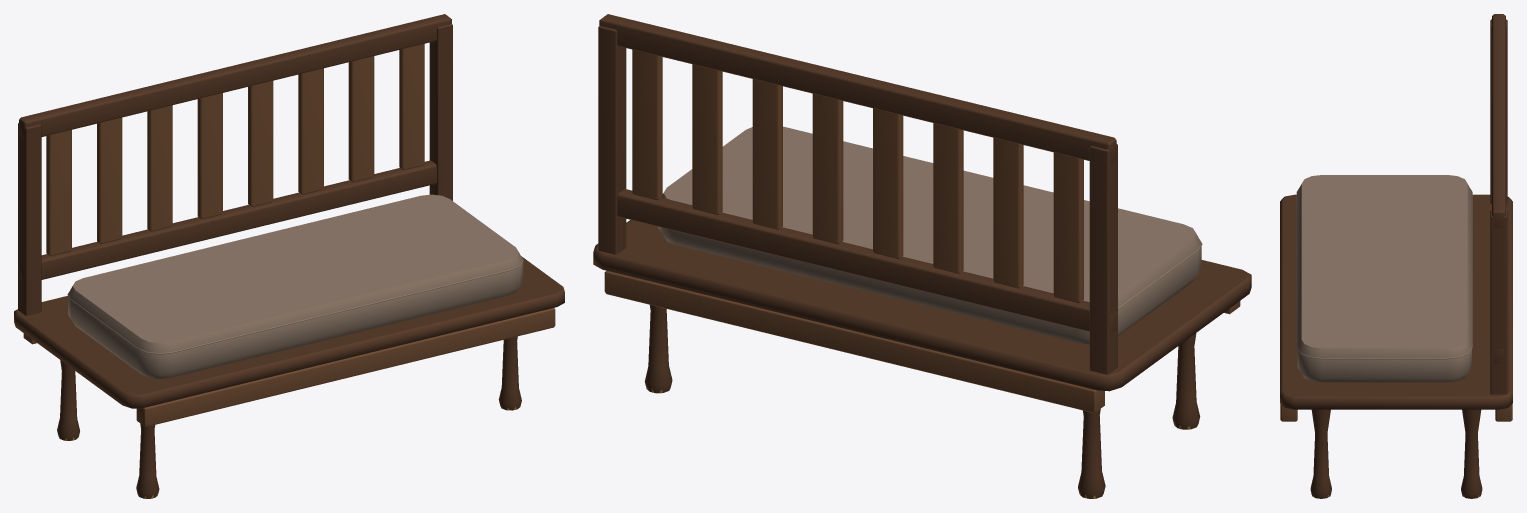
File: rpg-mansion-servants-compact-settee-01.glb
3 views of the same model, side by side, from view 1: azimuth 30°, elevation 25°; view 2: azimuth 150°, elevation 25°; view 3: azimuth 270°, elevation 25° (orthographic). The views are drawn at different scales.
Visible parts, largest first — view 1: rpg-mansion-servants-compact-settee-01; view 2: rpg-mansion-servants-compact-settee-01; view 3: rpg-mansion-servants-compact-settee-01.
Part boxes in pixels (box(x1,y1,x2,y2)): rpg-mansion-servants-compact-settee-01: box(14, 14, 564, 498); rpg-mansion-servants-compact-settee-01: box(593, 14, 1251, 498); rpg-mansion-servants-compact-settee-01: box(1280, 14, 1512, 498).
Bounding box in the file's own units: 1.35 × 0.92 × 0.65.
